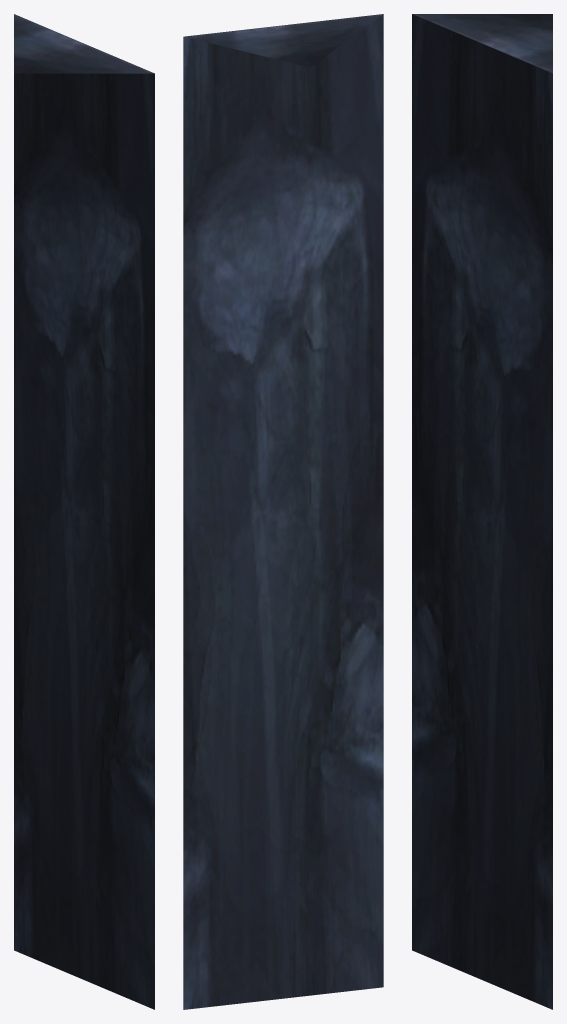
File: mine_half_convex_01.fbx
3 renders of one model, left to right at view 1: azimuth 90°, elevation 25°; view 2: azimuth 150°, elevation 25°; view 3: azimuth 270°, elevation 25°, orthographic. The views are drawn at different scales.
Visible parts, largest first — view 1: mine_half_convex_01-0; view 2: mine_half_convex_01-0; view 3: mine_half_convex_01-0.
Part boxes in pixels (left/top/right/bottom): mine_half_convex_01-0: left=14, top=14, right=154, bottom=1009; mine_half_convex_01-0: left=183, top=14, right=383, bottom=1009; mine_half_convex_01-0: left=412, top=14, right=552, bottom=1009.
Size of the model in its own units: 0.375 by 2.75 by 0.375.
